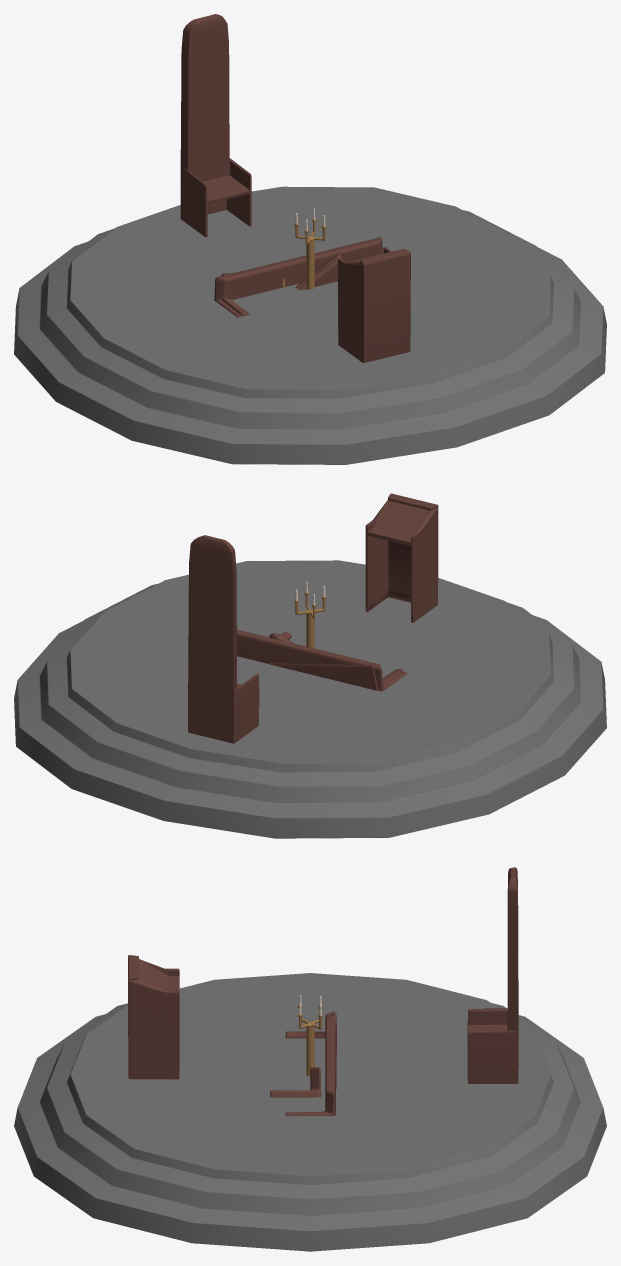
File: Church_InteriorV2.fbx
3 renders of one model, top to bottom at view 1: azimuth 30°, elevation 25°; view 2: azimuth 150°, elevation 25°; view 3: azimuth 270°, elevation 25°, orthographic.
Parts seen in each view (by area): view 1: altair1, pew_1, candleholder_1, pew_3; view 2: altair1, pew_1, pew_2, candleholder_1; view 3: altair1, pew_1, candleholder_1, pew_3.
Part boxes in pixels (box(x1,y1,x2,y2)): altair1: box(14, 14, 606, 464); pew_1: box(214, 237, 382, 317); candleholder_1: box(294, 208, 326, 289); pew_3: box(295, 253, 344, 290); altair1: box(14, 493, 606, 838); pew_1: box(237, 629, 406, 691); pew_2: box(265, 663, 403, 690); candleholder_1: box(294, 581, 326, 648); altair1: box(14, 867, 606, 1251); pew_1: box(285, 1011, 335, 1115); candleholder_1: box(297, 995, 323, 1075); pew_3: box(270, 1067, 321, 1097).
Size of the model in its own units: 510 by 241 by 510.
